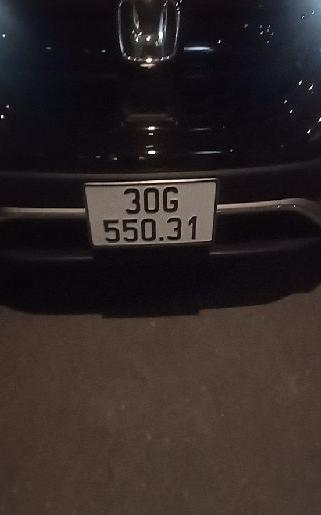Plate-iWeP: (92, 179, 214, 248)
